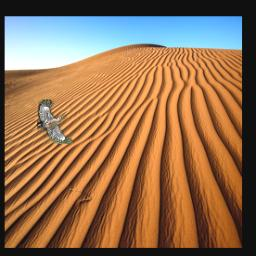Woodpecker: (37, 100, 72, 145)
